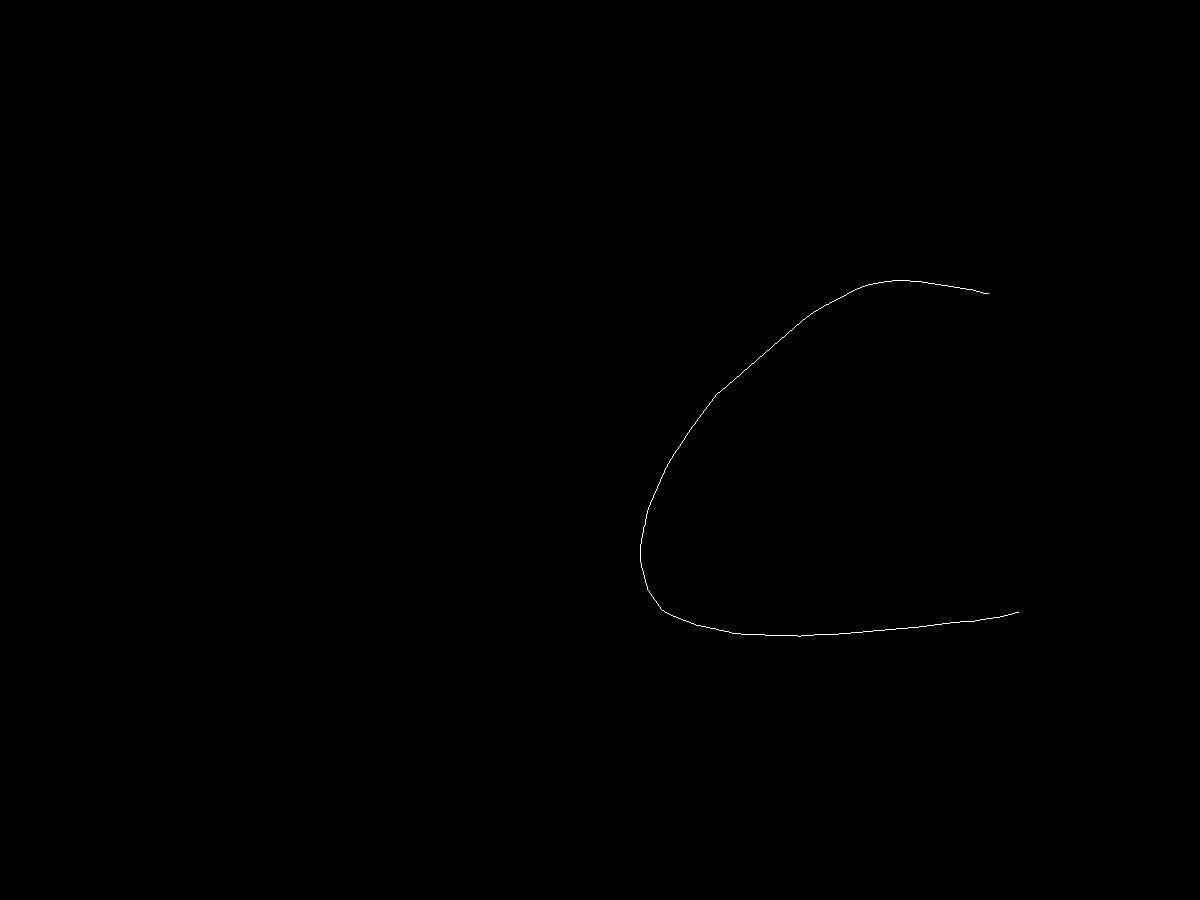dian1: (980, 283, 1001, 306)
dian2: (1011, 604, 1029, 624)
